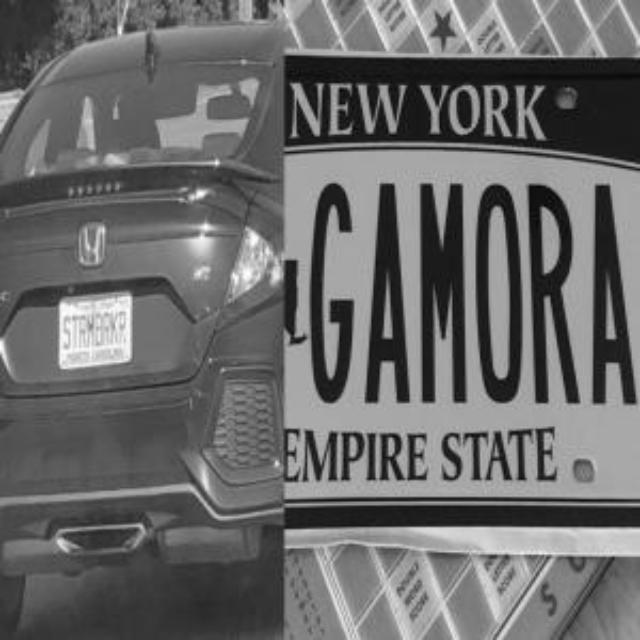License Plate: (58, 292, 131, 369)
